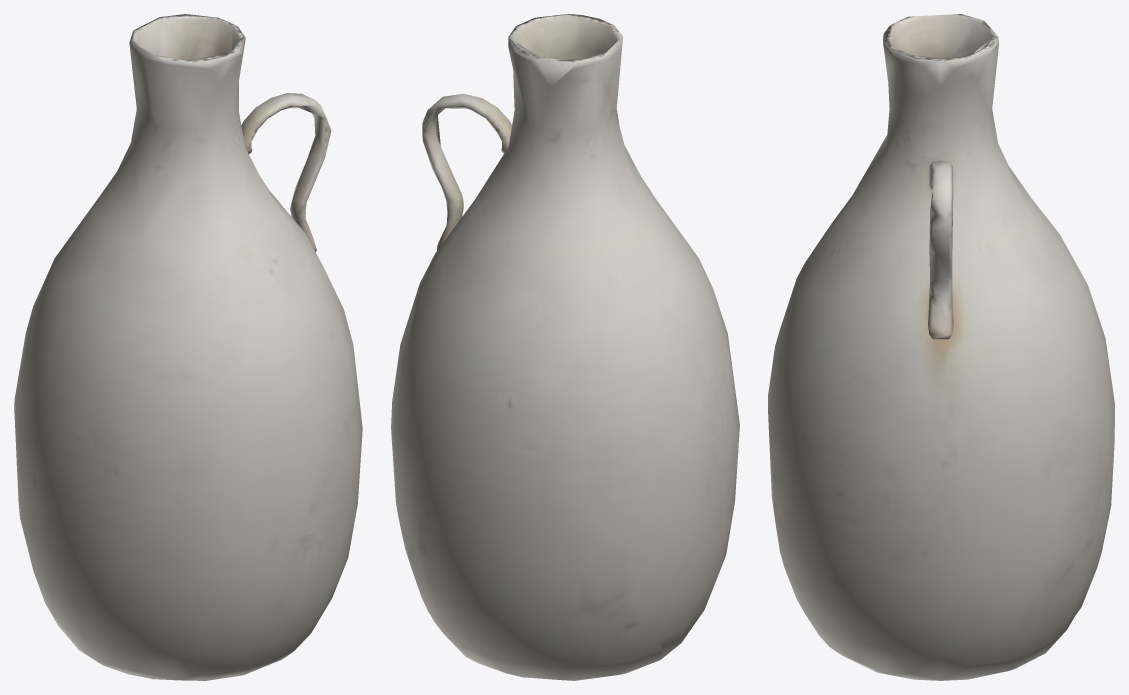
File: ceramic_vase_04.glb
The picture shows the model from 3 angles, left to right: view 1: azimuth 30°, elevation 25°; view 2: azimuth 150°, elevation 25°; view 3: azimuth 270°, elevation 25°; orthographic projection.
Visible parts, largest first — view 1: ceramic_vase_04; view 2: ceramic_vase_04; view 3: ceramic_vase_04.
Boxes of the visible parts, <box> form: ceramic_vase_04: <box>14,14,362,680</box>; ceramic_vase_04: <box>391,14,739,680</box>; ceramic_vase_04: <box>768,14,1114,680</box>.
Size of the model in its own units: 0.1799 by 0.3419 by 0.1793.
1 material, 1 textured.
